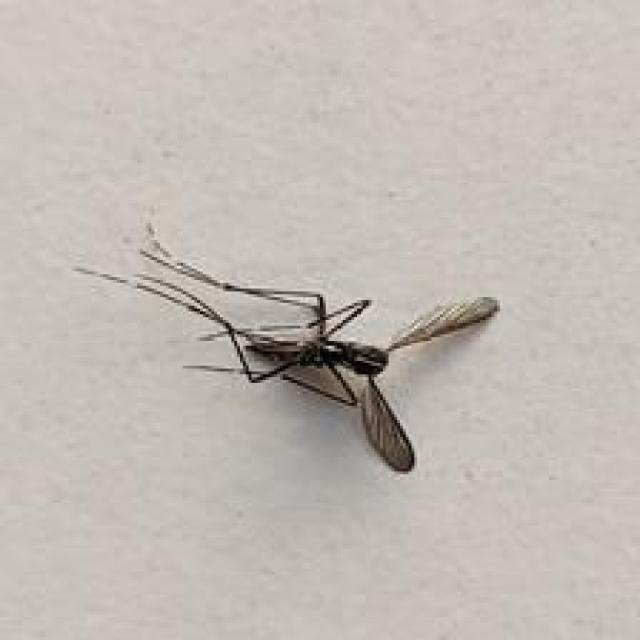Aedes albopictus: (73, 218, 501, 476)
